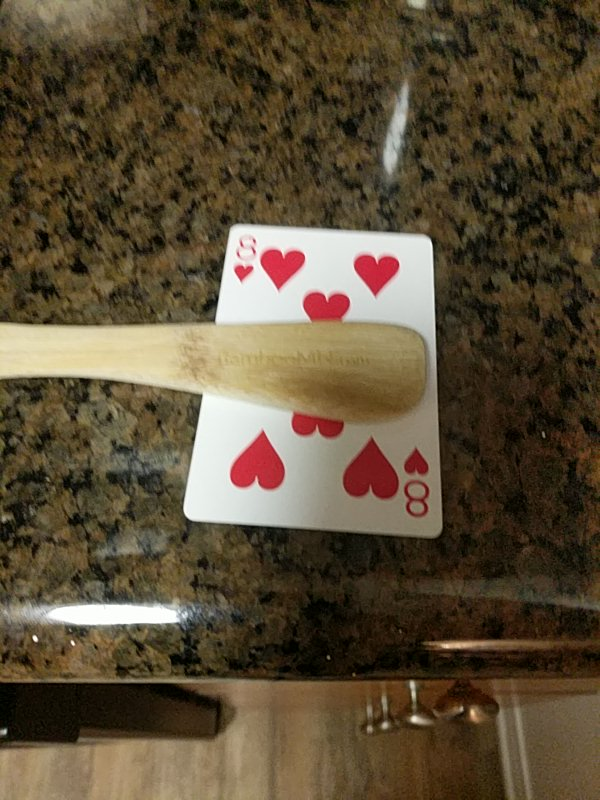Hearts: (187, 224, 444, 532)
